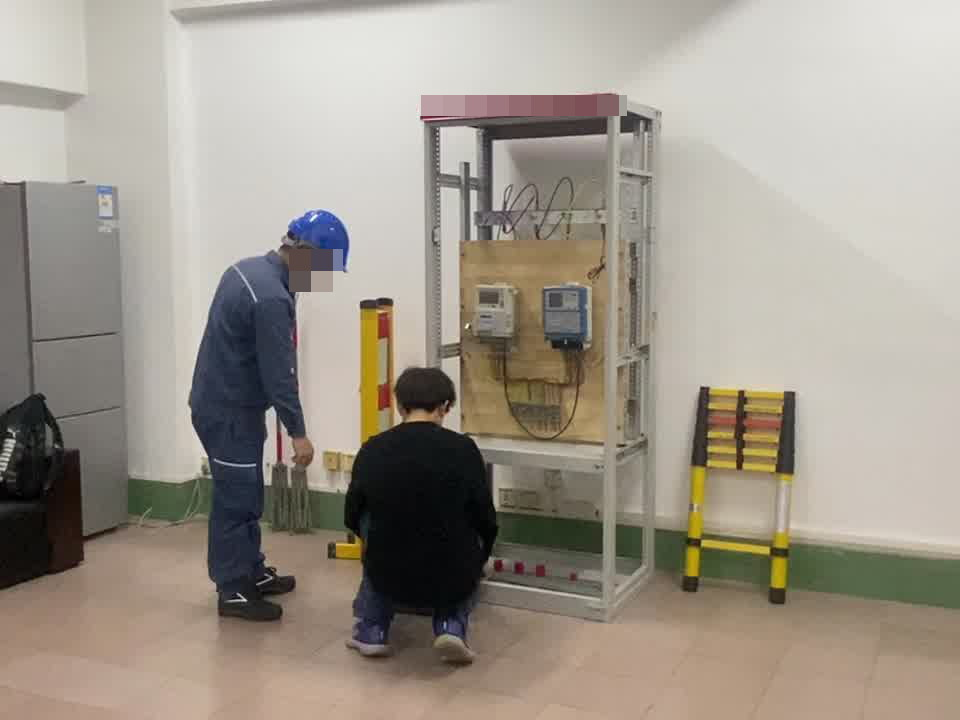downsuit: (195, 423, 272, 593)
halt: (283, 208, 352, 291)
hand: (290, 432, 316, 463)
inear: (292, 245, 319, 275)
noear: (438, 396, 455, 418)
person: (187, 202, 352, 619), (345, 364, 503, 663)
unhalt: (394, 367, 459, 426)
upcloth: (350, 426, 494, 626)
upsuit: (192, 252, 302, 416)
